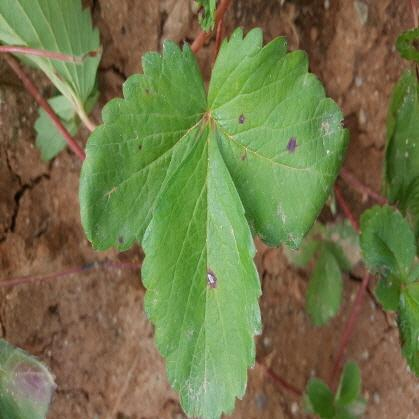Leaf Spot: (140, 121, 263, 418), (206, 25, 351, 252), (77, 38, 207, 252), (283, 218, 325, 267)
